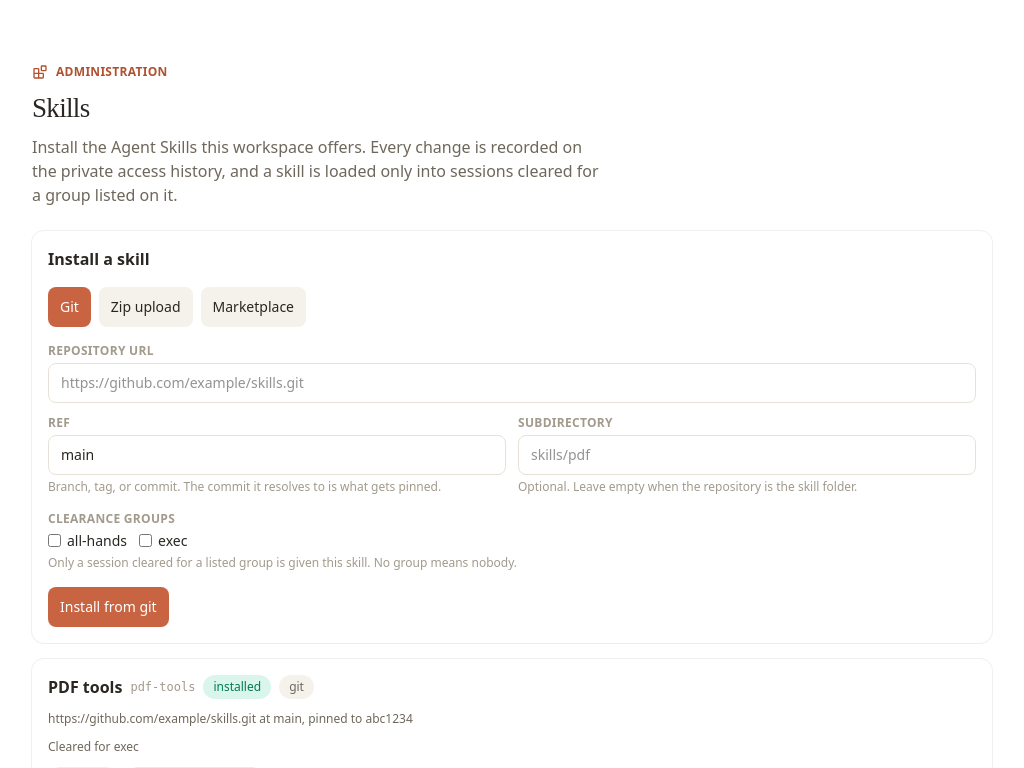
Test: SkillsAdminPage › reports a marketplace index that could not be read instead of hiding it
Click the button "Marketplace".
click(253, 306)  # box [200,286,306,326]
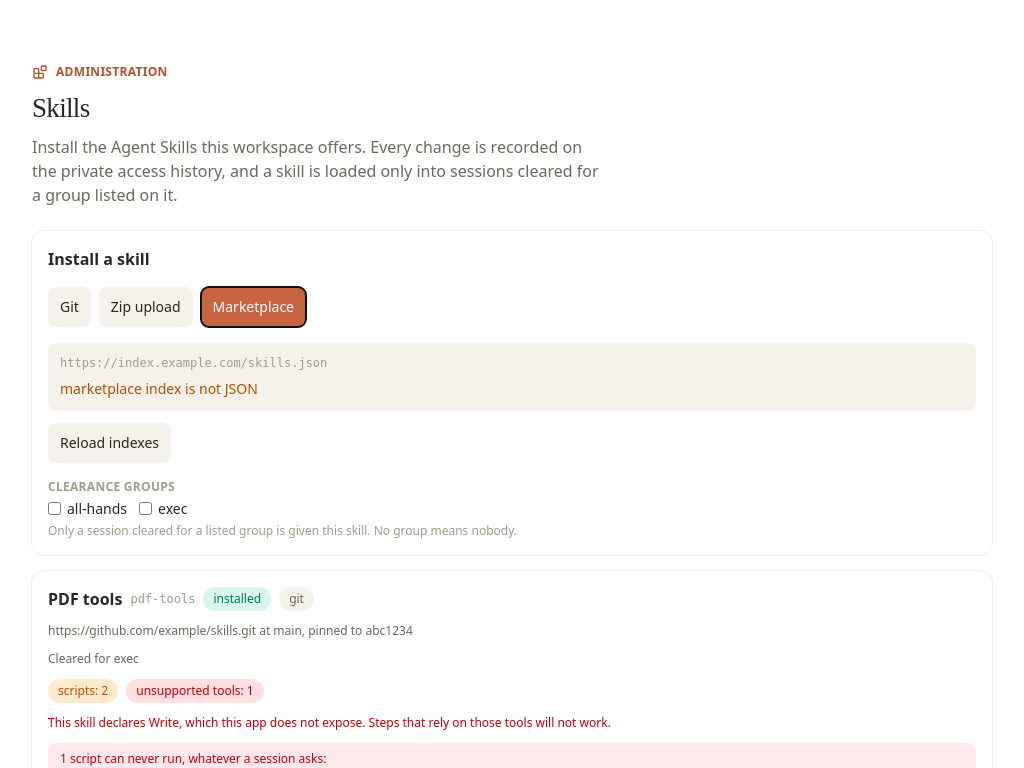
Now the text "marketplace index is not JSON" is shown, box [60,378,258,398]
